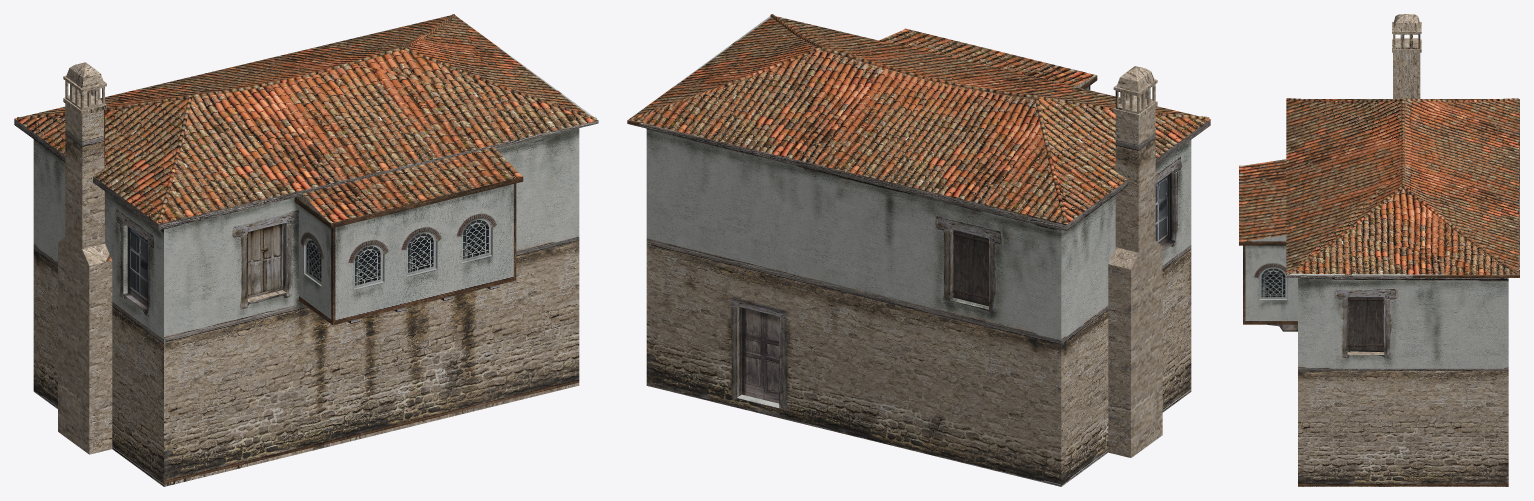
File: ottoman2.fbx
3 renders of one model, left to right at view 1: azimuth 30°, elevation 25°; view 2: azimuth 150°, elevation 25°; view 3: azimuth 270°, elevation 25°, orthographic. The views are drawn at different scales.
Parts seen in each view (by area): view 1: Mesh1; view 2: Mesh1; view 3: Mesh1.
Boxes of the visible parts, x1,y1,x2,y2 form: Mesh1: (14, 14, 598, 486); Mesh1: (627, 14, 1210, 486); Mesh1: (1239, 14, 1519, 486).
Bounding box in the file's own units: 2775 × 2210 × 1848.
